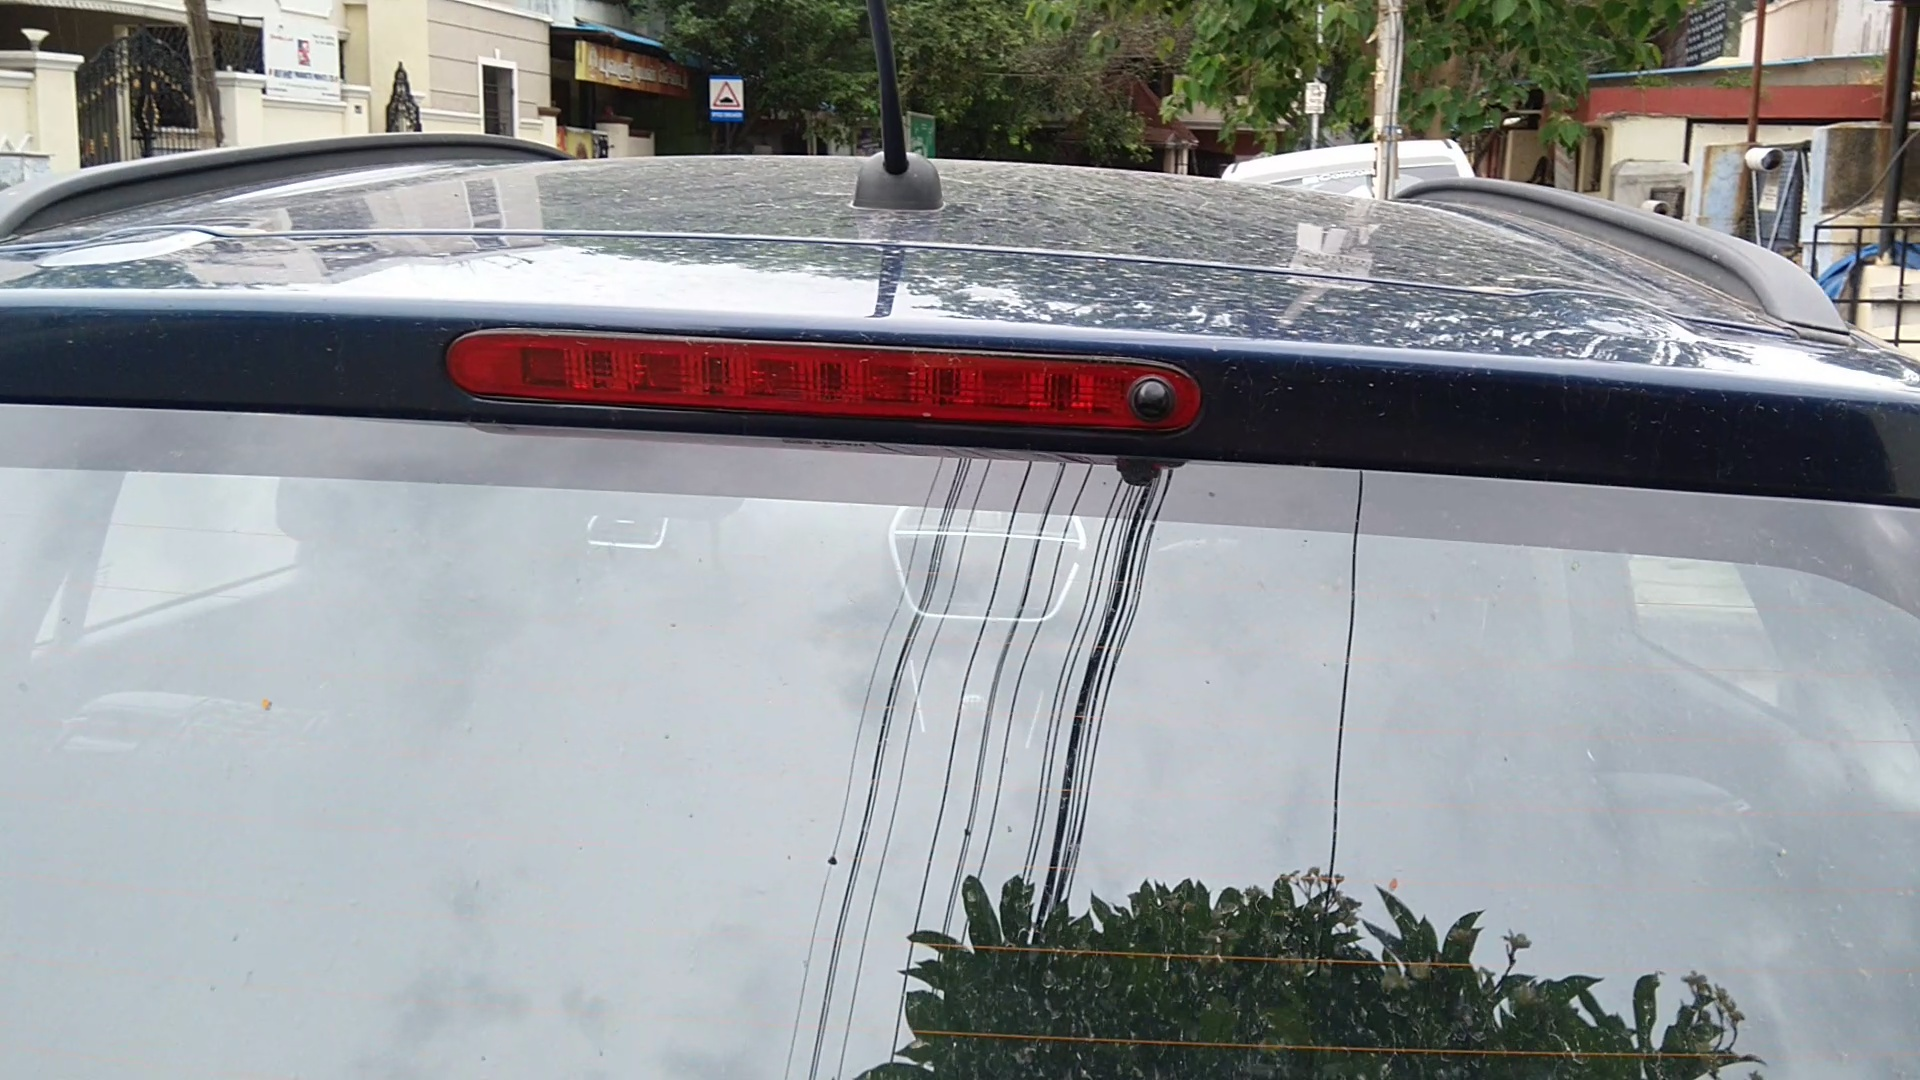rear_camera: (1108, 357, 1191, 443)
